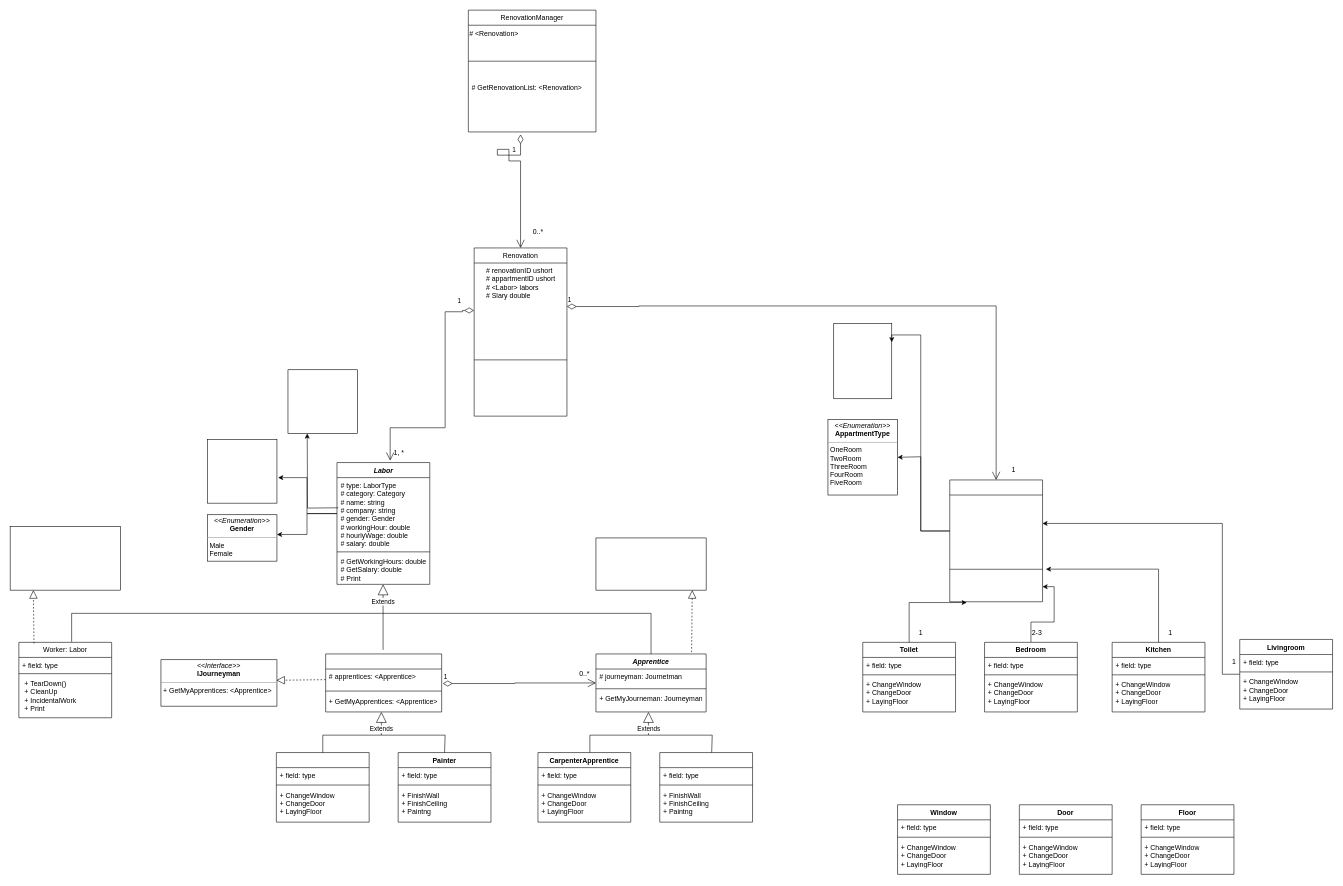
The diagram is 1343 pixels wide and 886 high, and some of its shapes have lost their labels. Here are the shapes that lost their labels. From the top down, the box of each, then its label:
(833, 323, 892, 399): <<Enumeration>> EnergyLevel A B C D E F
(287, 369, 358, 434): <<Enumeration>> Category Carpenter Painter
(207, 439, 277, 503): <<Enumeration>> LaborType Worker Apprentice Journeyman
(10, 526, 120, 590): <<Interface>> IWorker + TearDown() + CleanUp + IncidentalWork
(949, 479, 1043, 602): Appartment
(595, 537, 706, 590): <<Interface>> IApprentice + GetMyJourneman: Journeyman + WorkAlongsideJourneyman
(325, 653, 442, 712): Journeyman
(276, 752, 369, 822): Carpenter
(659, 752, 753, 822): PainterApprentice
